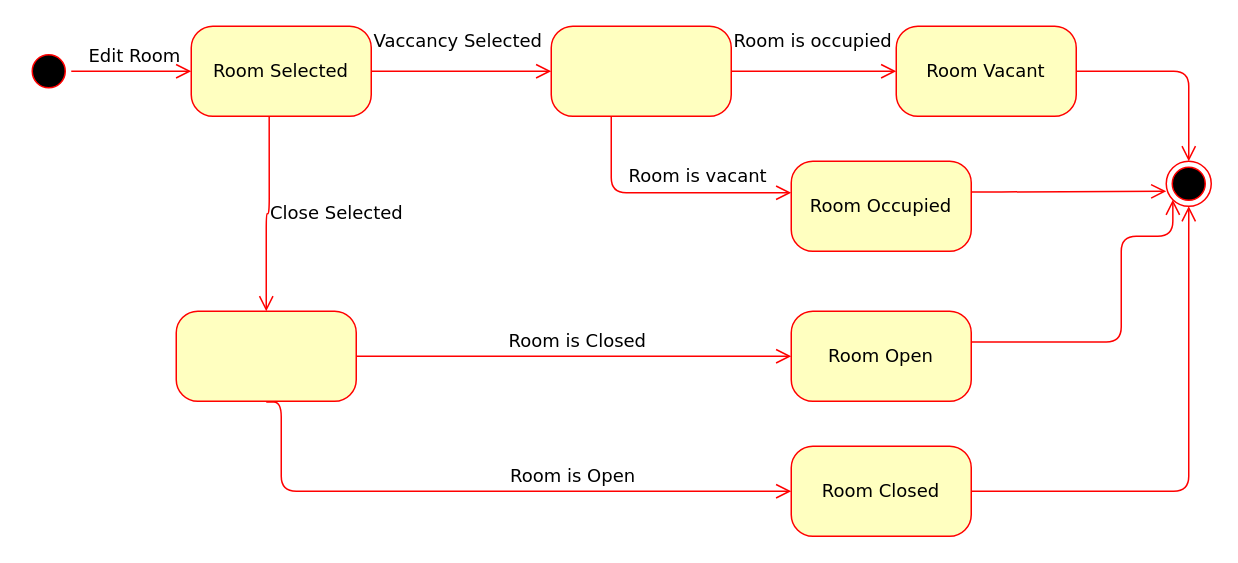
Some shapes in this 1238 by 563 pixel diagram are drawn without their labels. The shapes that lost their labels are listed below. From the top down, each one's centre as x and y in pixels, then its label:
At [640,70]: "Change Vacancy".
At [265,355]: "Change Closed".
